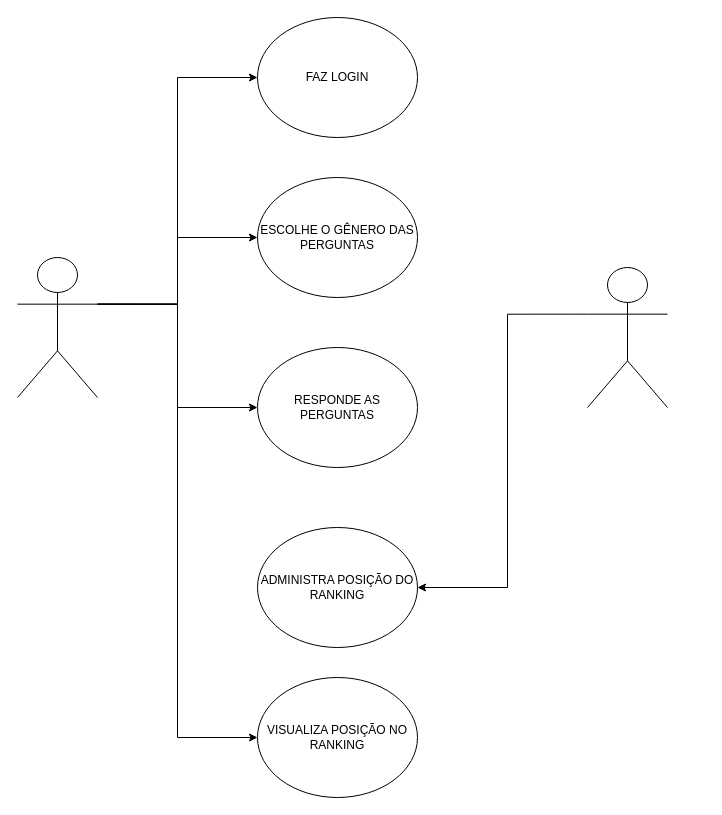
Some shapes in this 722 by 815 pixel diagram are drawn without their labels. The box of each missing label's shape, as (x1, y1, x2, y2) in pixels:
ADMINISTRADOR DO QUIZ: (586, 266, 668, 408)
USUÁRIO: (16, 256, 98, 398)
